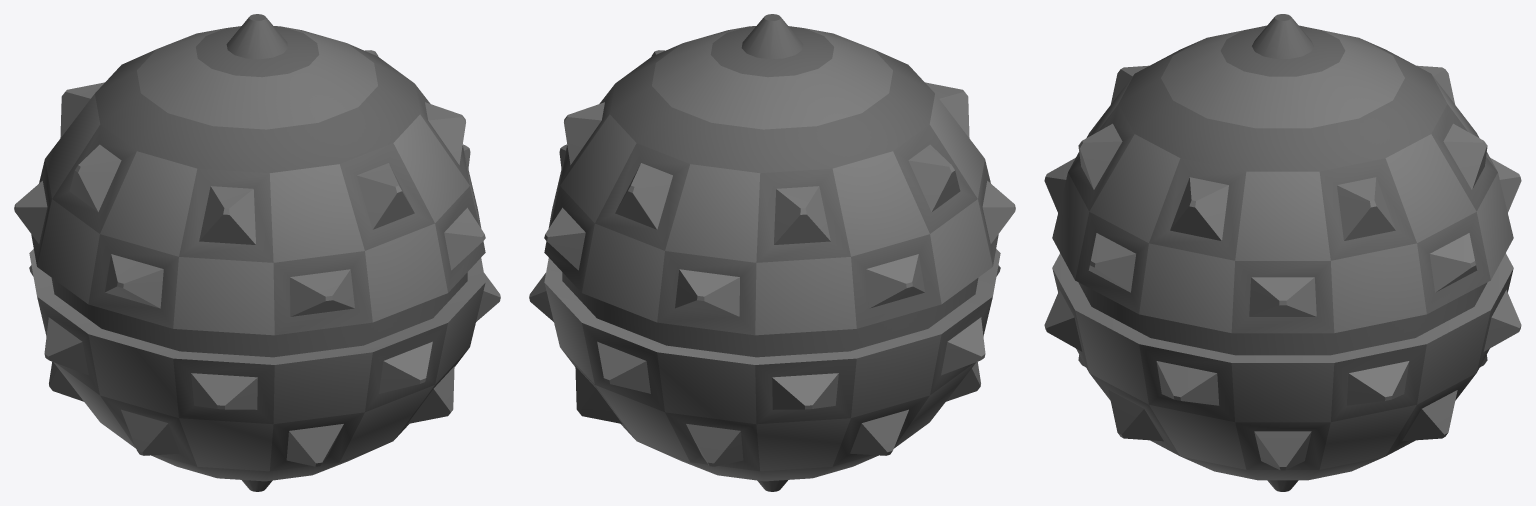
File: Ball_2.fbx
3 views of the same model, side by side, from view 1: azimuth 30°, elevation 25°; view 2: azimuth 150°, elevation 25°; view 3: azimuth 270°, elevation 25° (orthographic).
Parts seen in each view (by area): view 1: Ball_2; view 2: Ball_2; view 3: Ball_2.
Part boxes in pixels (box(x1,y1,x2,y2)): Ball_2: box(14, 14, 500, 491); Ball_2: box(529, 14, 1015, 491); Ball_2: box(1044, 14, 1521, 491).
Bounding box in the file's own units: 154 × 164 × 151.
Materials: 1 (1 with a texture image).
